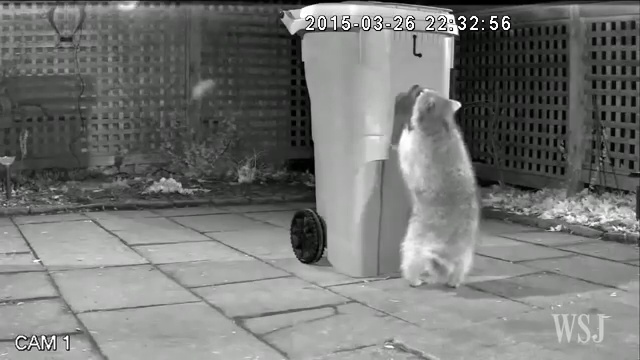raccoon: (388, 78, 479, 293)
